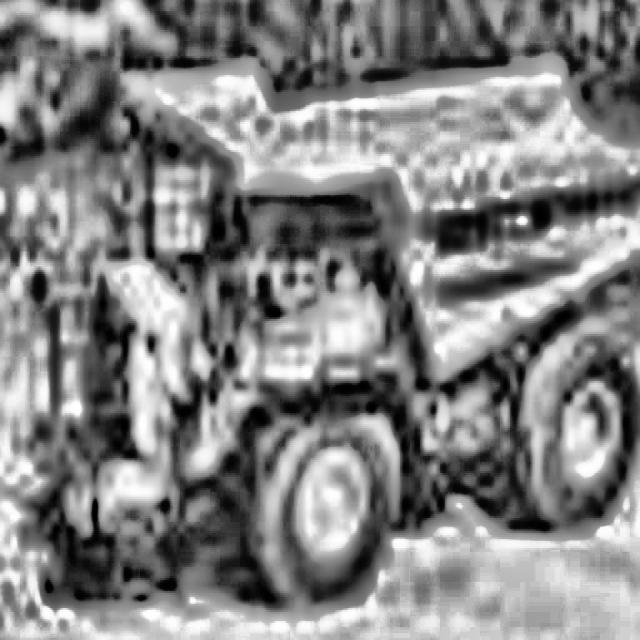dump_truck: (17, 20, 640, 623)
